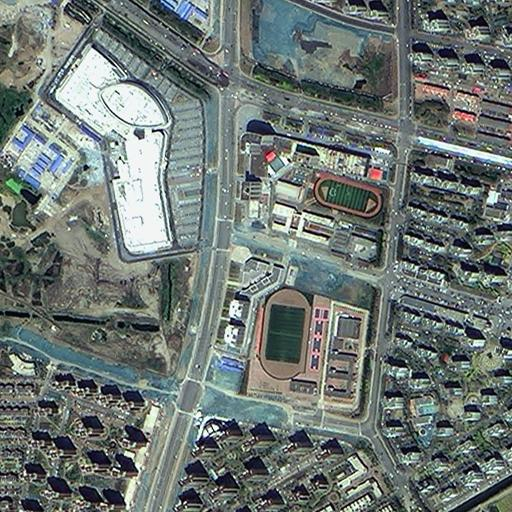school: (199, 237, 386, 423), (223, 113, 398, 272)
